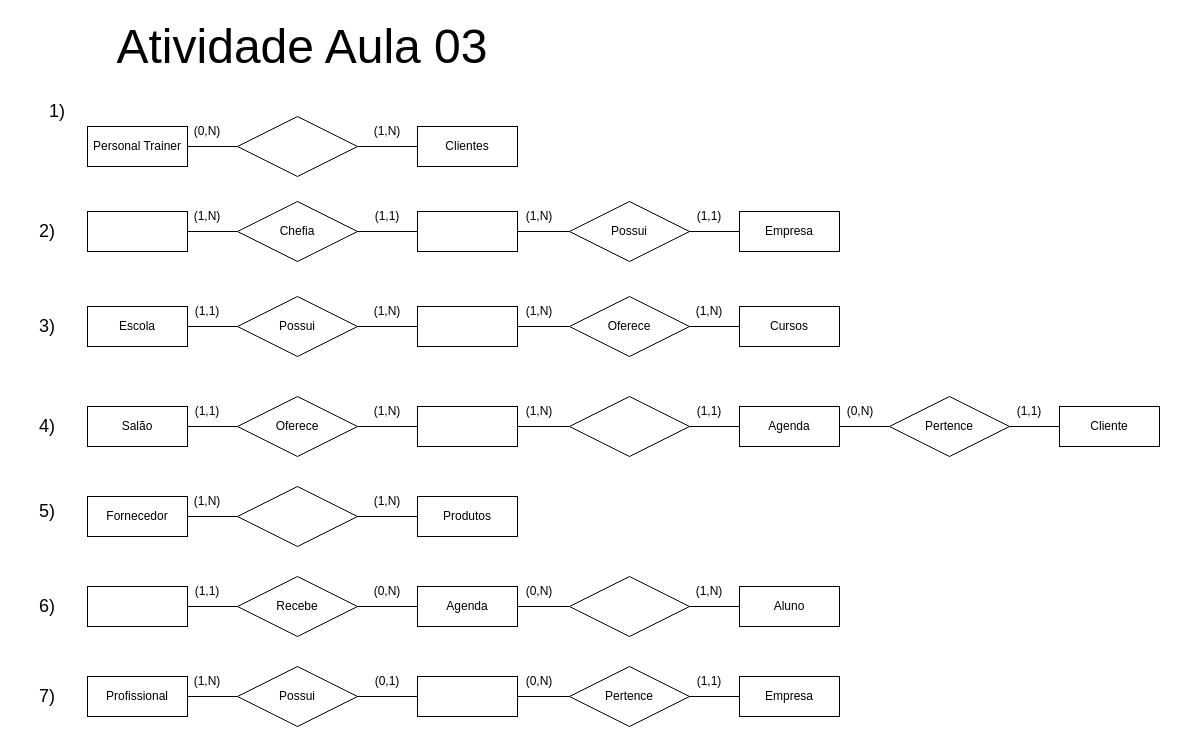
The diagram is 1177 pixels wide and 744 high, and some of its shapes have lost their labels. Here are the shapes that lost their labels. From the top down, the centre of each, then its label:
At (x=297, y=146): "Atende".
At (x=137, y=231): "Diretor".
At (x=467, y=231): "Área".
At (x=467, y=326): "Filiais".
At (x=467, y=426): "Serviços".
At (x=629, y=426): "Contém".
At (x=297, y=516): "Fornece".
At (x=137, y=606): "Atividades".
At (x=629, y=606): "Matrícula".
At (x=467, y=696): "Contrato".
